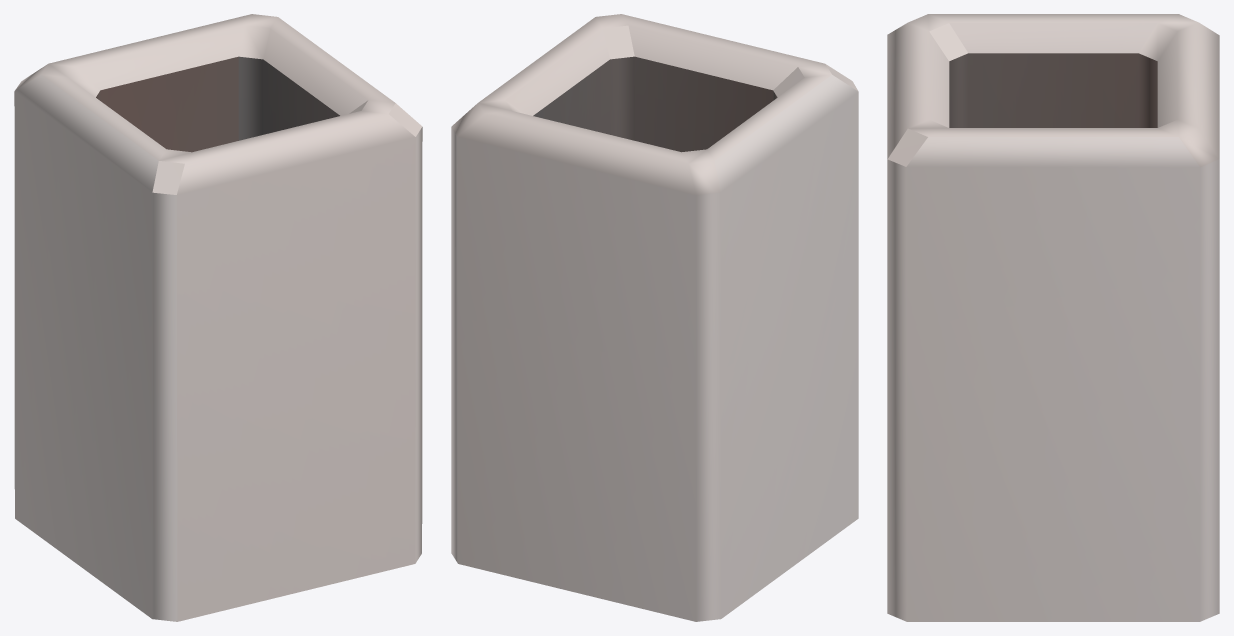
Rendered from city2-trash-can-08.glb.
3 renders of one model, left to right at view 1: azimuth 30°, elevation 25°; view 2: azimuth 150°, elevation 25°; view 3: azimuth 270°, elevation 25°, orthographic. The views are drawn at different scales.
Visible parts, largest first — view 1: Trash_Can_08; view 2: Trash_Can_08; view 3: Trash_Can_08.
Part boxes in pixels (left/top/right/bottom): Trash_Can_08: left=14, top=14, right=422, bottom=621; Trash_Can_08: left=451, top=14, right=858, bottom=621; Trash_Can_08: left=887, top=14, right=1219, bottom=621.
Size of the model in its own units: 0.4387 by 0.6945 by 0.4387.
1 material, 1 textured.
